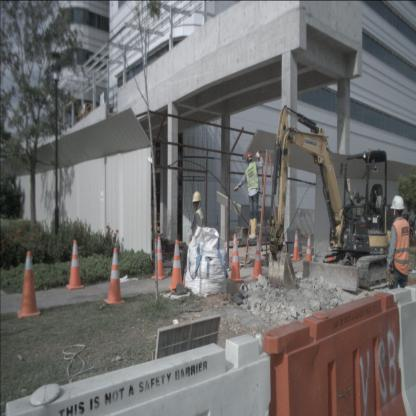barrier: (4, 331, 271, 415), (264, 292, 411, 416), (388, 284, 416, 416)
cone: (16, 248, 41, 320), (104, 246, 127, 304), (64, 238, 84, 289), (168, 238, 185, 294), (152, 235, 168, 280), (249, 237, 266, 279), (228, 239, 243, 281), (229, 233, 240, 277), (290, 229, 302, 261), (304, 235, 314, 270), (326, 237, 334, 269)
